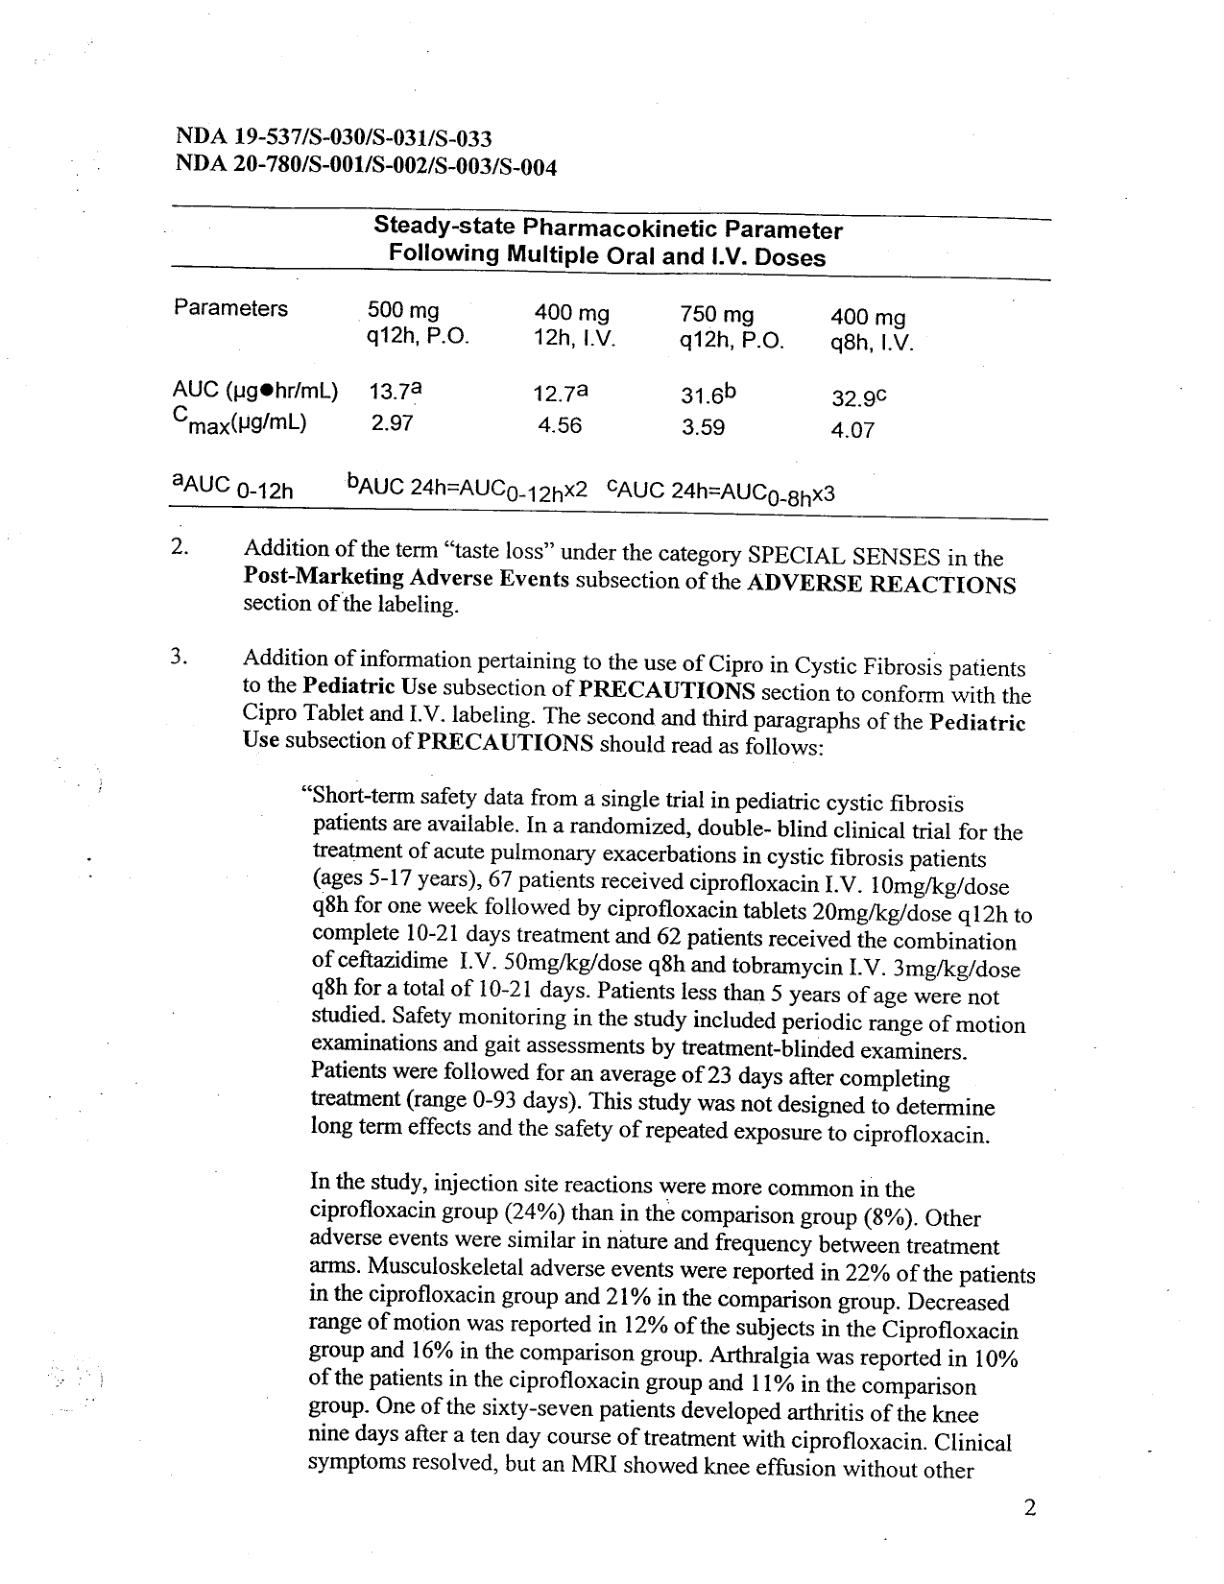partial_lined: (161, 262, 1056, 523)
